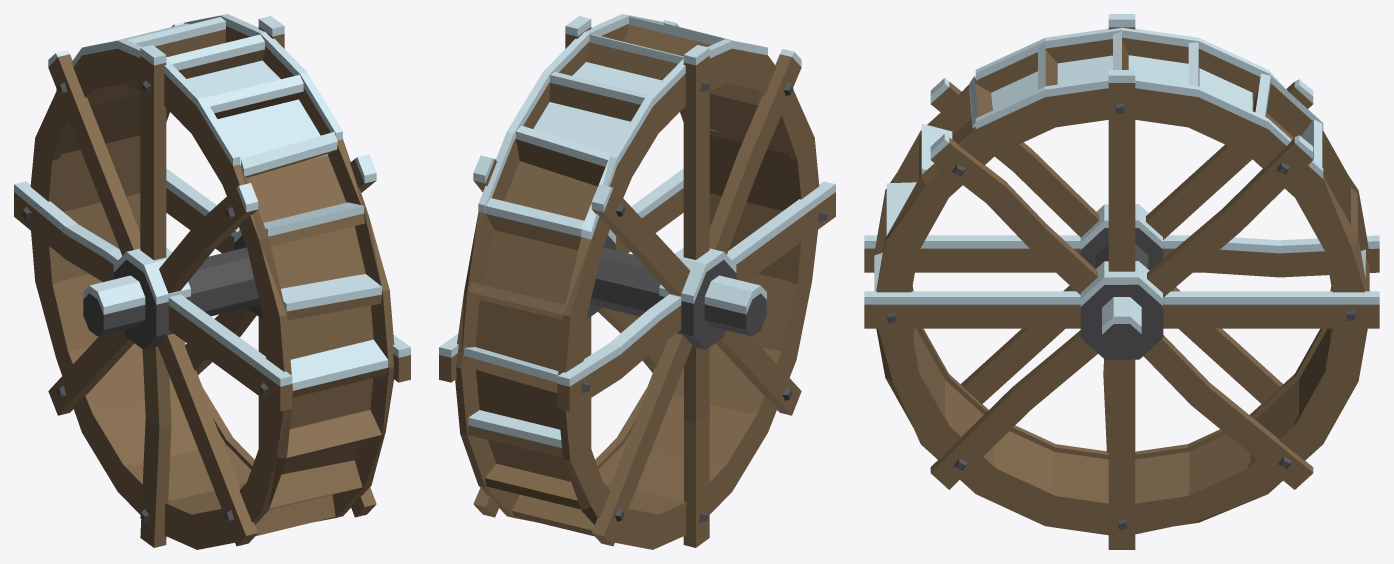
The model's file is SM_Prp_WaterWheel_01_Snow.gltf.
The picture shows the model from 3 angles, left to right: view 1: azimuth 30°, elevation 25°; view 2: azimuth 150°, elevation 25°; view 3: azimuth 270°, elevation 25°; orthographic projection. The views are drawn at different scales.
Parts seen in each view (by area): view 1: SM_Prp_WaterWheel_01_Snow; view 2: SM_Prp_WaterWheel_01_Snow; view 3: SM_Prp_WaterWheel_01_Snow.
Part boxes in pixels (left/top/right/bottom): SM_Prp_WaterWheel_01_Snow: left=14, top=14, right=410, bottom=549; SM_Prp_WaterWheel_01_Snow: left=439, top=14, right=835, bottom=549; SM_Prp_WaterWheel_01_Snow: left=864, top=14, right=1379, bottom=549.
Bounding box in the file's own units: 2.51 × 4.93 × 4.85.
1 material, 1 textured.
